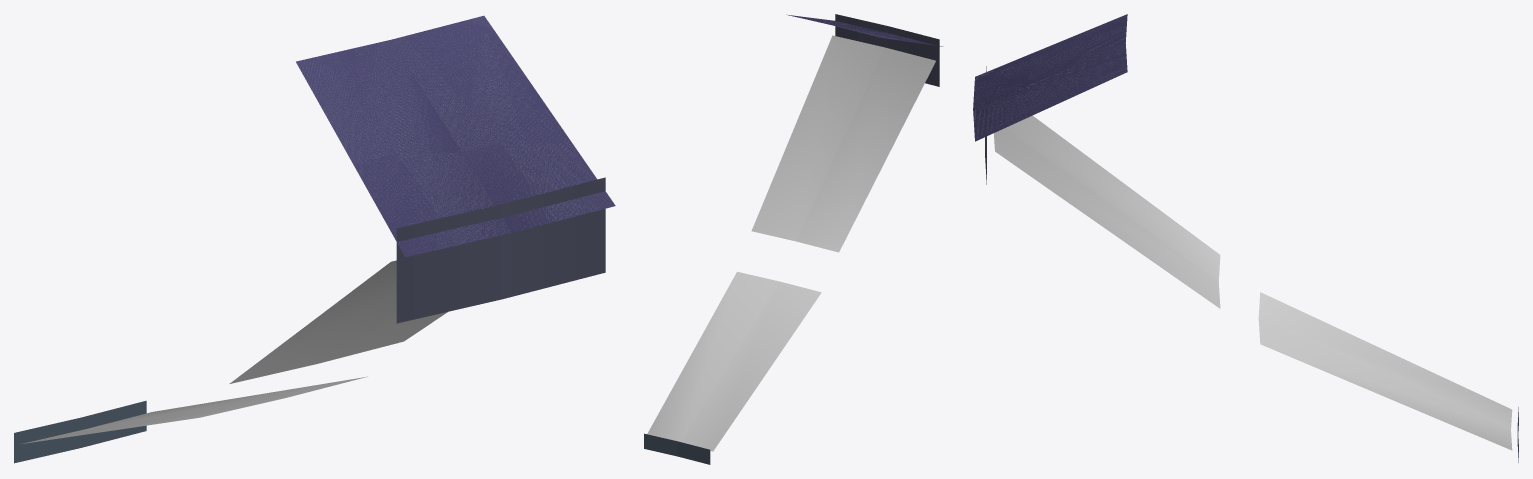
File: wedge-lod1.fbx
3 renders of one model, left to right at view 1: azimuth 30°, elevation 25°; view 2: azimuth 150°, elevation 25°; view 3: azimuth 270°, elevation 25°, orthographic. The views are drawn at different scales.
Visible parts, largest first — view 1: VandeWedge_LOD1; view 2: VandeWedge_LOD1; view 3: VandeWedge_LOD1.
Part boxes in pixels (bbox=[...]): VandeWedge_LOD1: bbox=[14, 15, 615, 463]; VandeWedge_LOD1: bbox=[644, 14, 943, 464]; VandeWedge_LOD1: bbox=[973, 14, 1518, 462].
Size of the model in its own units: 1157 by 3335 by 4110.
